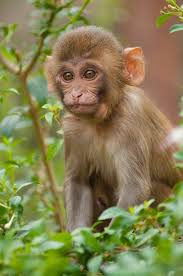monkey: (26, 23, 182, 245)
